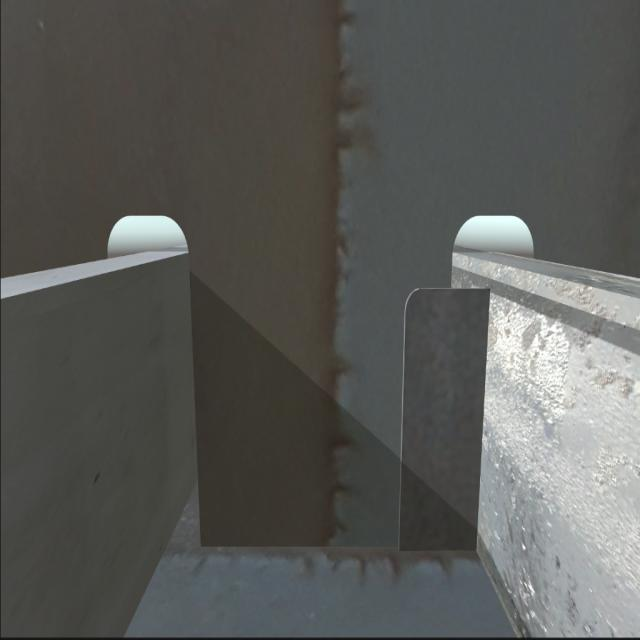fillet_yong_jeop_jang: (195, 534, 489, 561)
longi_yong_jeop_jang: (471, 286, 490, 554)
plate_CP05: (401, 286, 482, 548)
